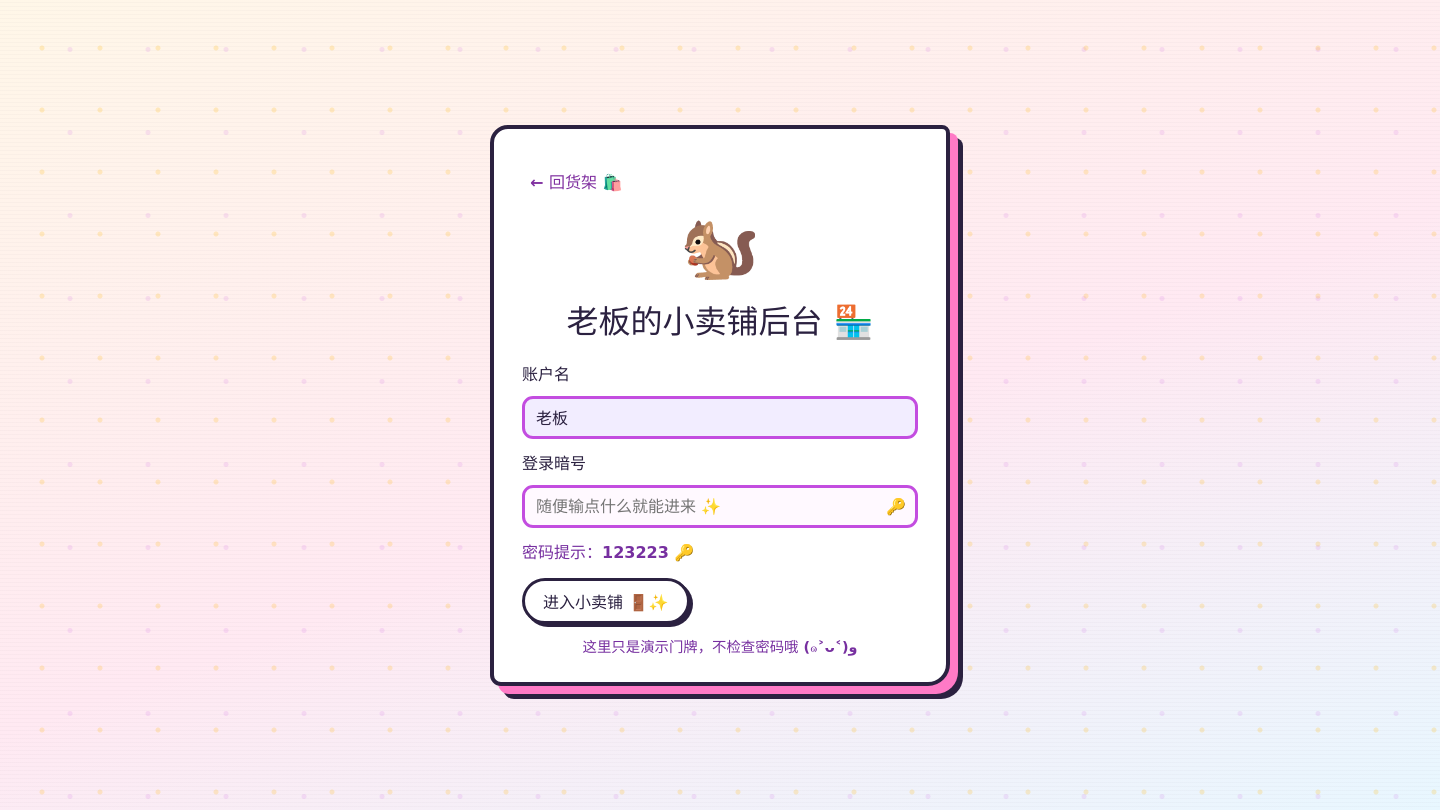
Test: shopkeeper back-office › shows an empty password field and hint, then lets the shopkeeper enter
Check: the text "密码提示：123223 🔑" is shown, box [522,542,694,562]
In the password field labelled "登录暗号": (720, 506) [522,484,918,528], type "随便输点什么"
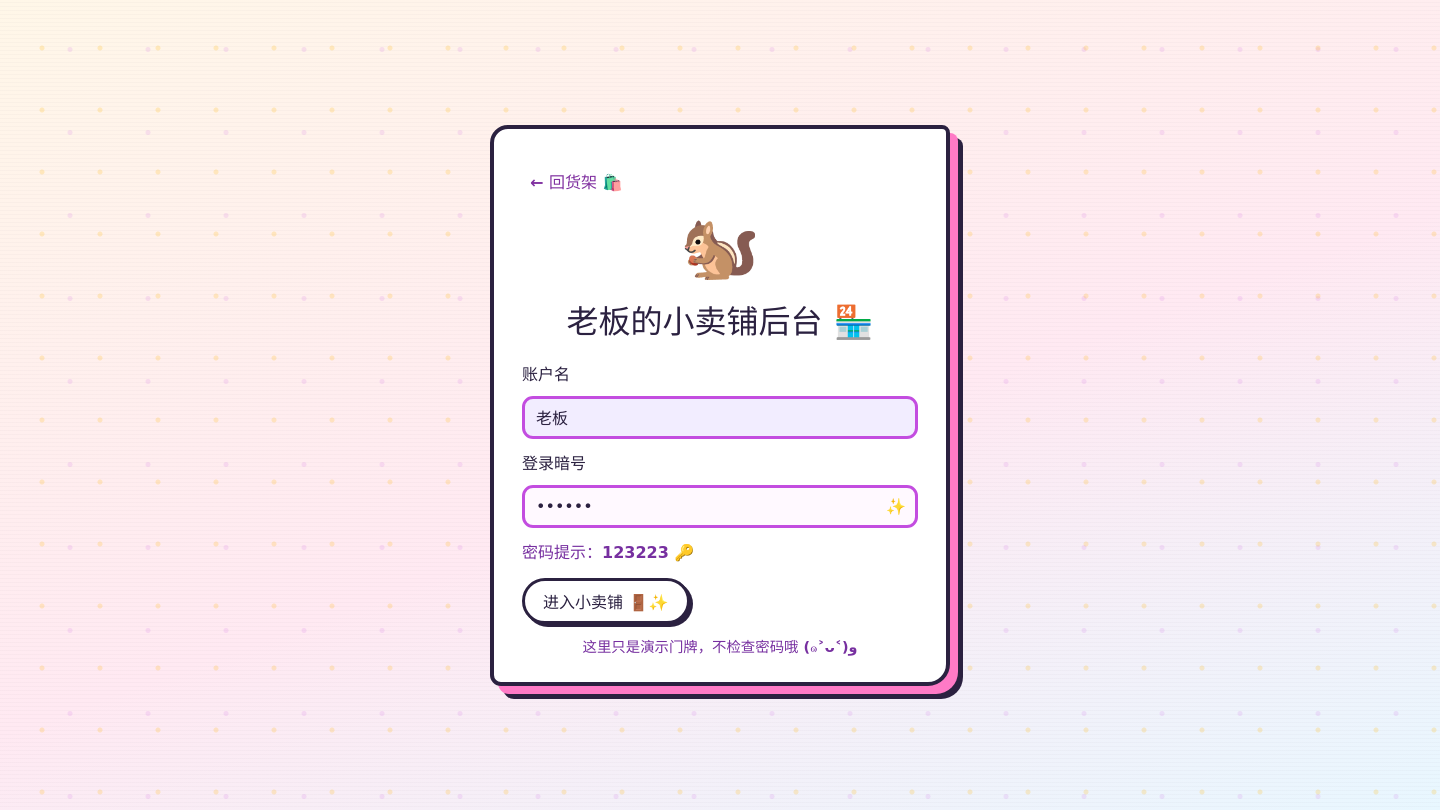
Click the button "进入小卖铺 🚪✨": (606, 600) [522,578,690,624]
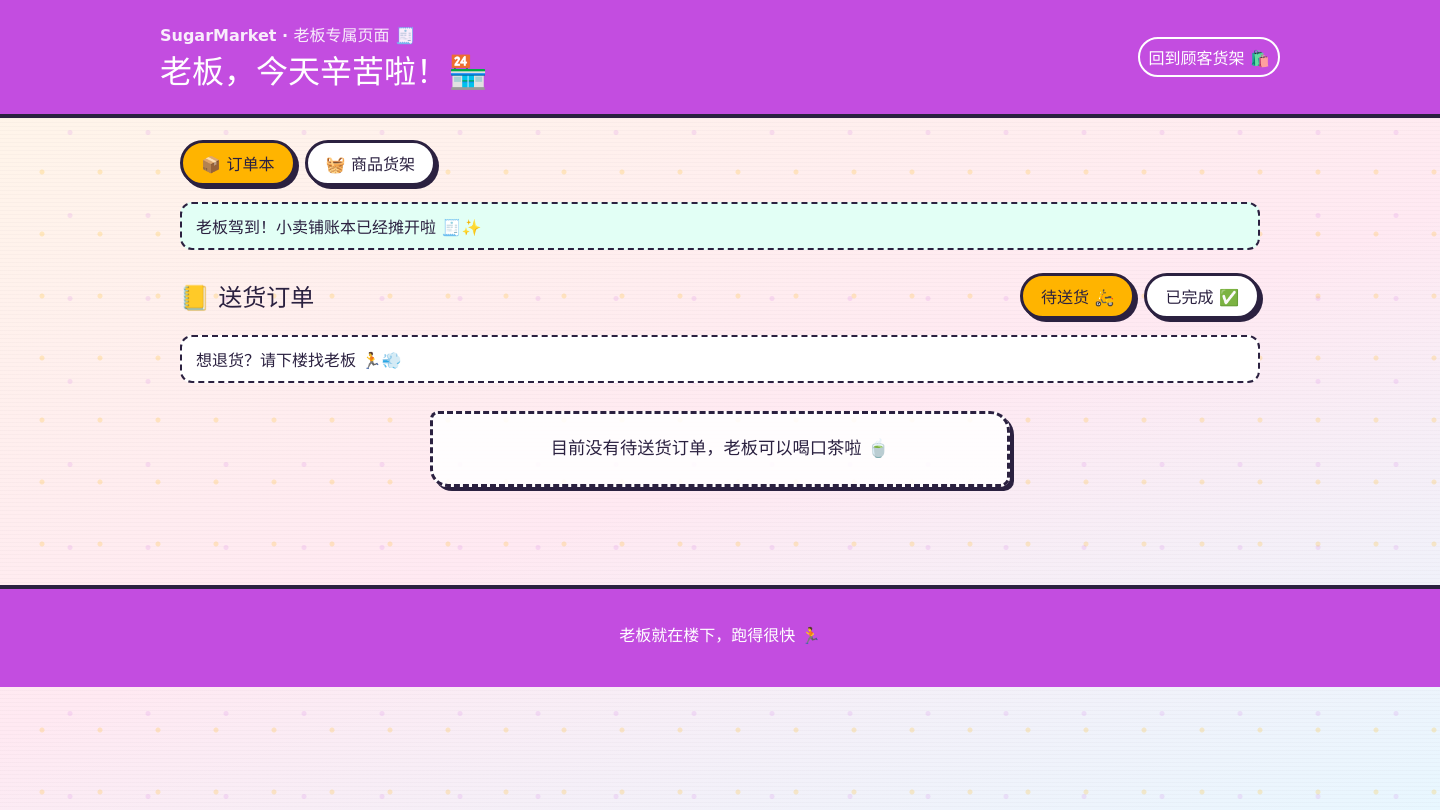
Check: the text "目前没有待送货订单，老板可以喝口茶啦 🍵" is shown, box [430,411,1010,487]
